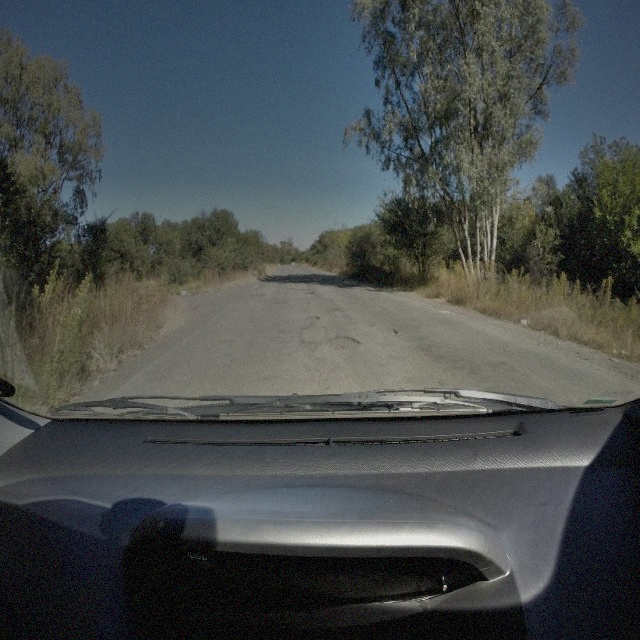pothole: (324, 331, 359, 351), (304, 312, 320, 322), (248, 291, 268, 297), (386, 324, 396, 335)
